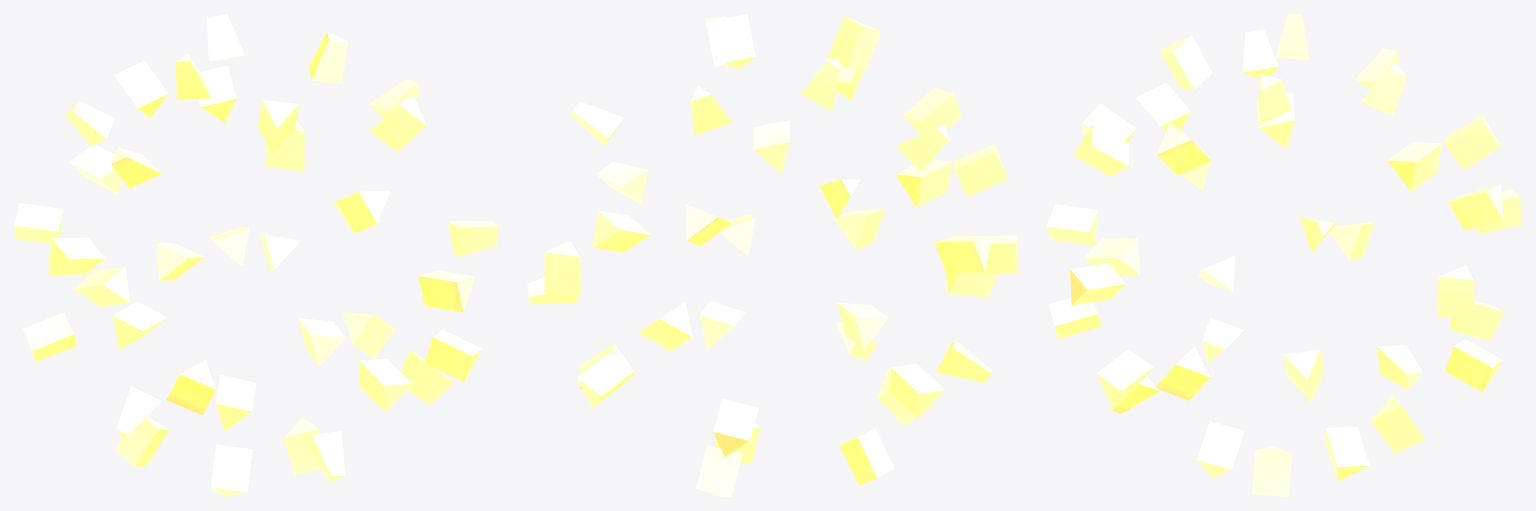
Rendered from spark.fbx.
The picture shows the model from 3 angles, left to right: view 1: azimuth 30°, elevation 25°; view 2: azimuth 150°, elevation 25°; view 3: azimuth 270°, elevation 25°; orthographic projection.
Parts seen in each view (by area): view 1: spark; view 2: spark; view 3: spark.
Part boxes in pixels (<box>): spark: <box>14,14,498,496</box>; spark: <box>527,14,1017,496</box>; spark: <box>1046,14,1521,496</box>.
Bounding box in the file's own units: 53.73 × 53.49 × 53.5.
